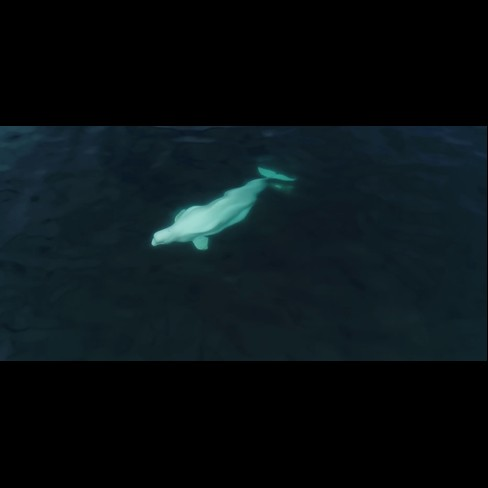beluga: (140, 159, 302, 255)
